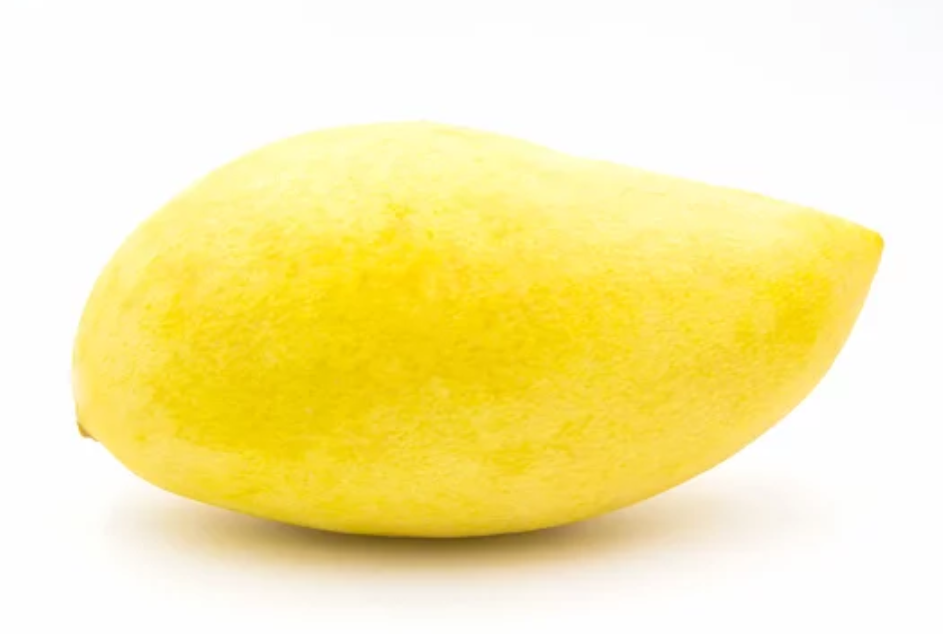mango: (69, 127, 891, 538)
